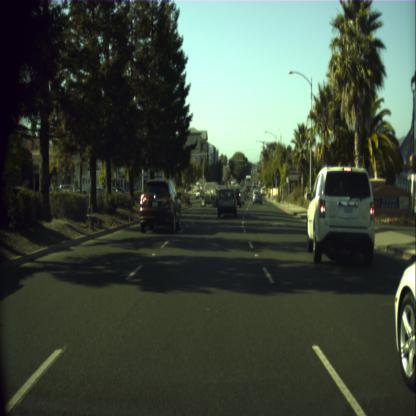Green: (245, 159, 246, 166)
Red: (218, 156, 220, 164)
